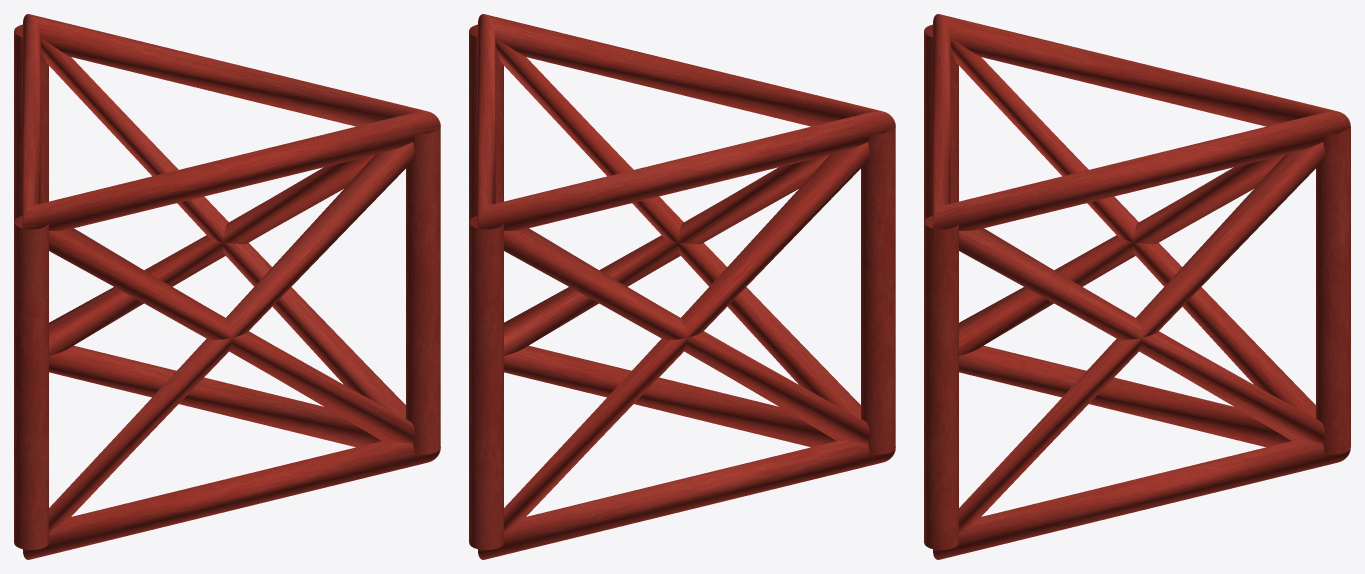
File: TowerBody.fbx
3 renders of one model, left to right at view 1: azimuth 30°, elevation 25°; view 2: azimuth 150°, elevation 25°; view 3: azimuth 270°, elevation 25°, orthographic.
Visible parts, largest first — view 1: TowerBody; view 2: TowerBody; view 3: TowerBody.
Part boxes in pixels (bbox=[...]): TowerBody: bbox=[14, 14, 440, 559]; TowerBody: bbox=[469, 14, 895, 559]; TowerBody: bbox=[924, 14, 1350, 559].
Size of the model in its own units: 3209 by 2560 by 2810.
